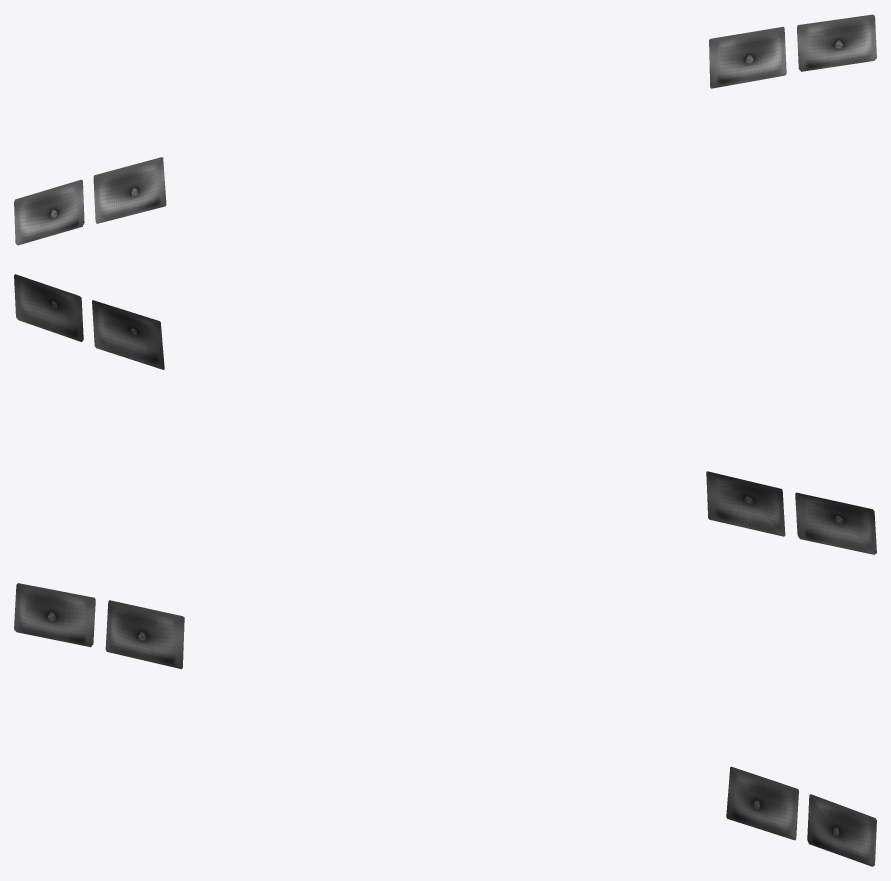
The model's file is shvan92_headlights_ucb_lights_and_glass_0_lev3.glb.
3 views of the same model, one above another, from view 1: azimuth 30°, elevation 25°; view 2: azimuth 150°, elevation 25°; view 3: azimuth 330°, elevation 25° (orthographic). The views are drawn at different scales.
Visible parts, largest first — view 1: shvan92_headlights_ucb_lights_and_glass_0_lev3; view 2: shvan92_headlights_ucb_lights_and_glass_0_lev3; view 3: shvan92_headlights_ucb_lights_and_glass_0_lev3.
Part boxes in pixels (box(x1,y1,x2,y2)): shvan92_headlights_ucb_lights_and_glass_0_lev3: box(14, 14, 876, 245); shvan92_headlights_ucb_lights_and_glass_0_lev3: box(14, 274, 876, 554); shvan92_headlights_ucb_lights_and_glass_0_lev3: box(14, 583, 876, 866).
Bounding box in the file's own units: 1.62 × 0.0885 × 0.1066.
Materials: 1 (1 with a texture image).
